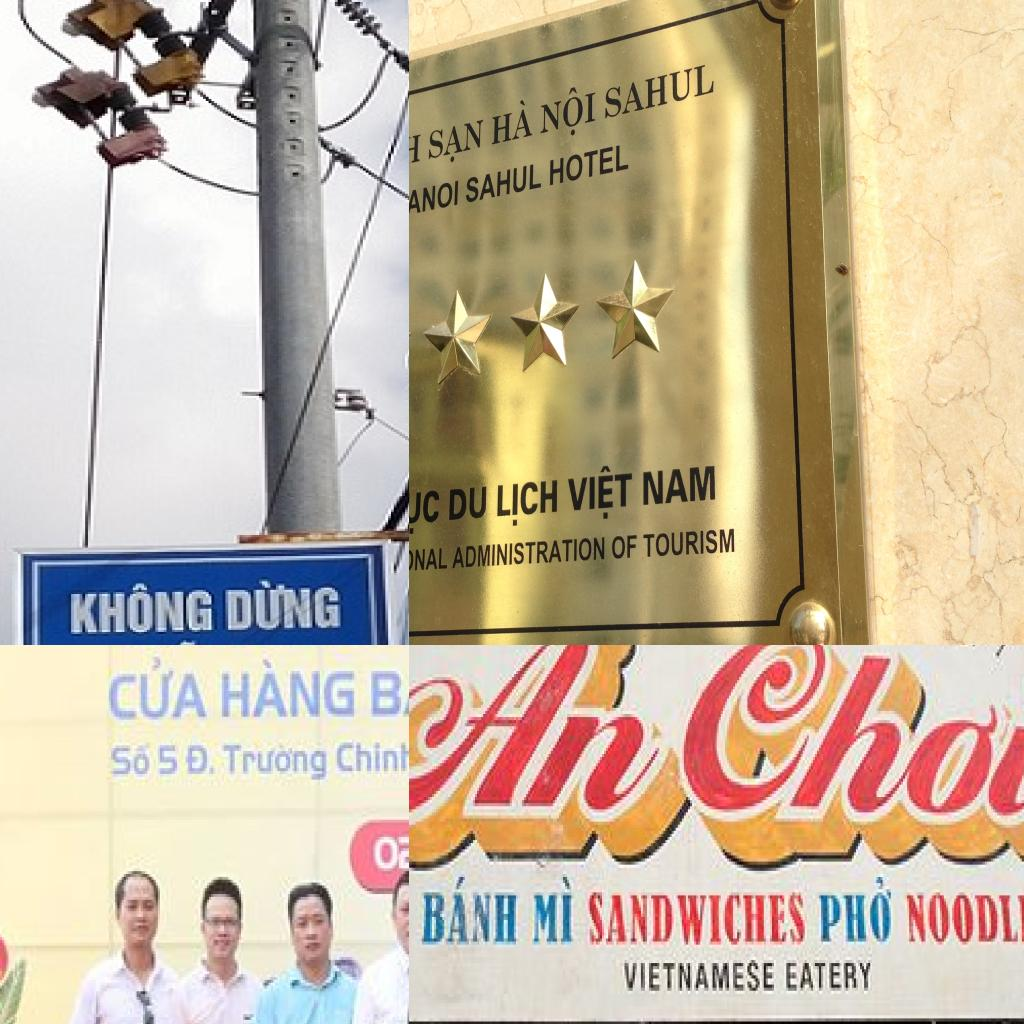text: (673, 645, 1024, 864), (409, 645, 702, 871), (581, 880, 809, 951), (218, 654, 360, 728), (63, 575, 220, 640), (414, 871, 520, 951), (899, 886, 1024, 953), (217, 575, 346, 636), (600, 56, 717, 123), (107, 654, 211, 725), (618, 954, 778, 1000), (451, 530, 608, 568), (815, 877, 897, 945), (222, 737, 331, 785), (564, 461, 634, 523), (526, 871, 578, 951), (546, 141, 630, 189), (640, 460, 718, 510), (538, 80, 598, 143), (780, 954, 874, 994), (426, 113, 487, 171), (464, 160, 543, 204), (494, 476, 560, 528), (337, 734, 409, 777), (367, 653, 409, 725), (106, 740, 156, 786), (409, 176, 460, 221), (489, 97, 533, 149), (371, 828, 409, 879), (446, 481, 489, 526), (409, 483, 440, 538), (184, 740, 218, 780), (409, 544, 451, 575), (156, 740, 181, 780), (608, 532, 638, 564)
